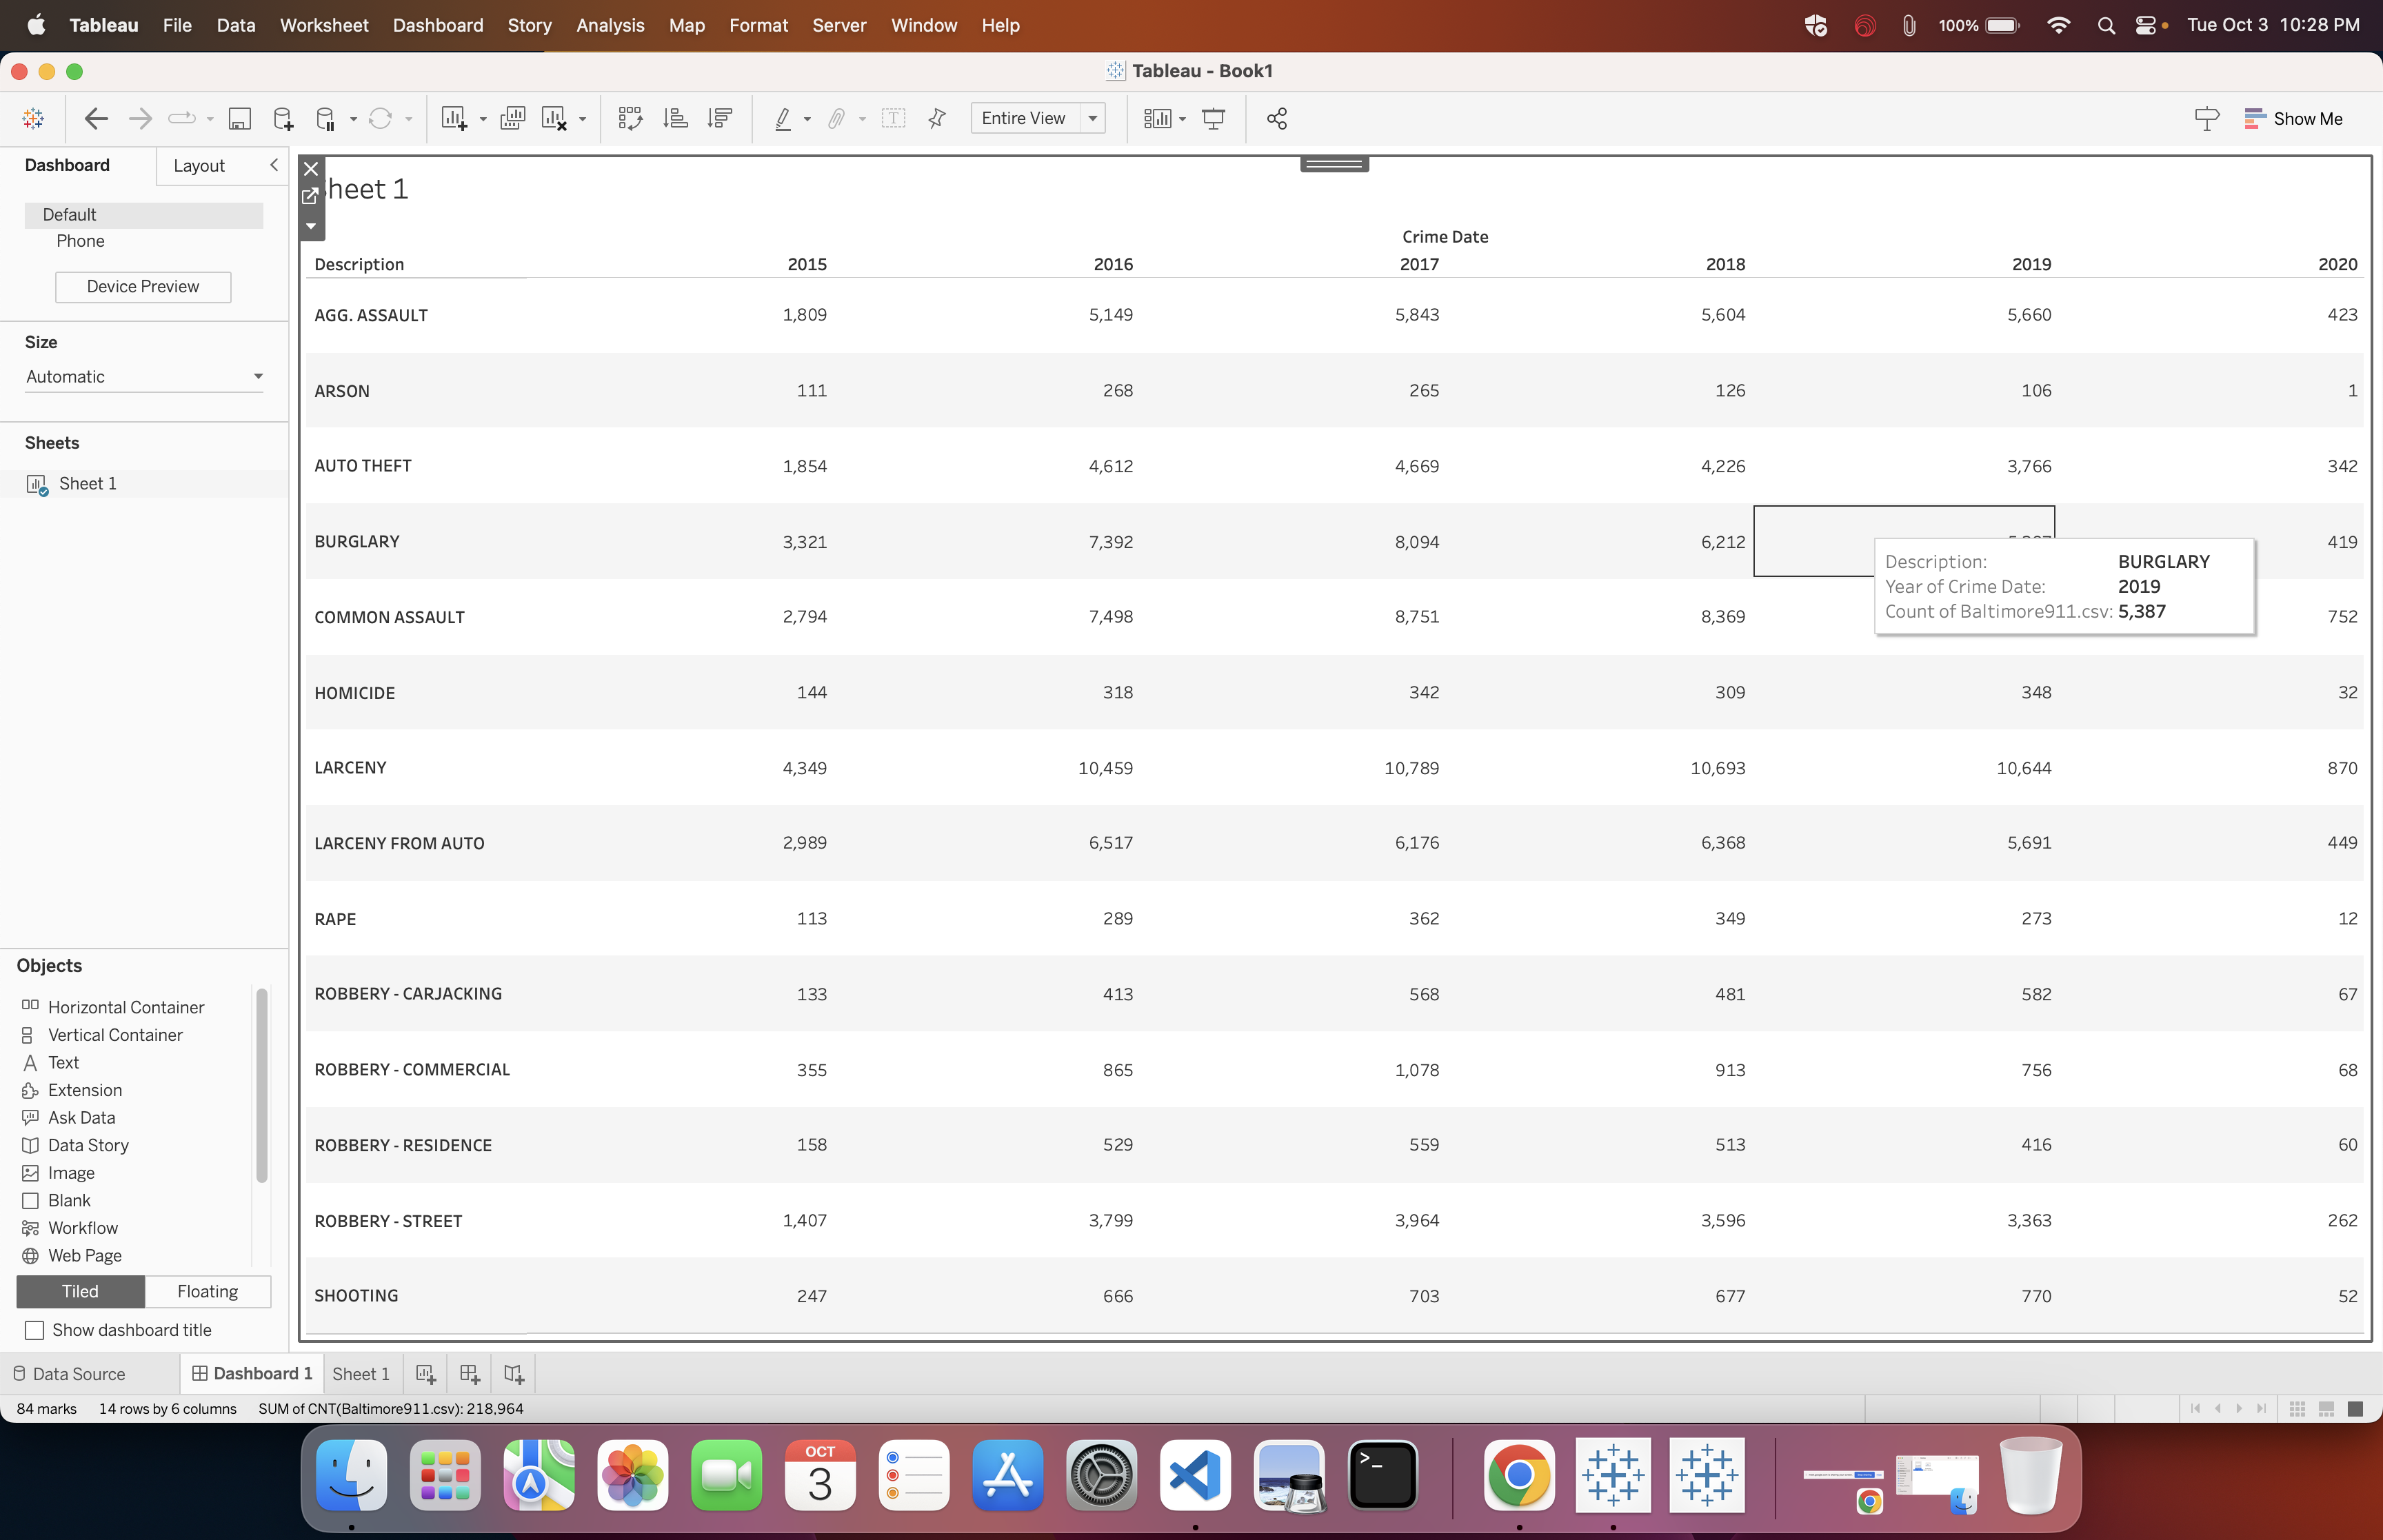

The page's visual inventory and layout, read from the dashboard file:
{"tool":"tableau","page":{"name":"Dashboard 1","canvas":[1000,1000],"units":"permille","ordinal":0},"visuals":[{"type":"worksheet","title":"Sheet 1","mark":"Circle","rows":["Baltimore911.csv_D21EA5A1DF394CF2B379596E421D5C13"],"cols":["CrimeDate"],"box":[5.3,9.2,989.5,981.7]}]}

Visuals, with their boxes on the dashboard's canvas, which has no fixed pixel size, in thousandths of its width and height (x1, y1, x2, y2). These are canvas units, not pixel positions in the 2383x1540 screenshot, which may show the page scaled, cropped or inside an application window:
"Sheet 1" worksheet (Circle marks): {"x1": 5, "y1": 9, "x2": 995, "y2": 991}
